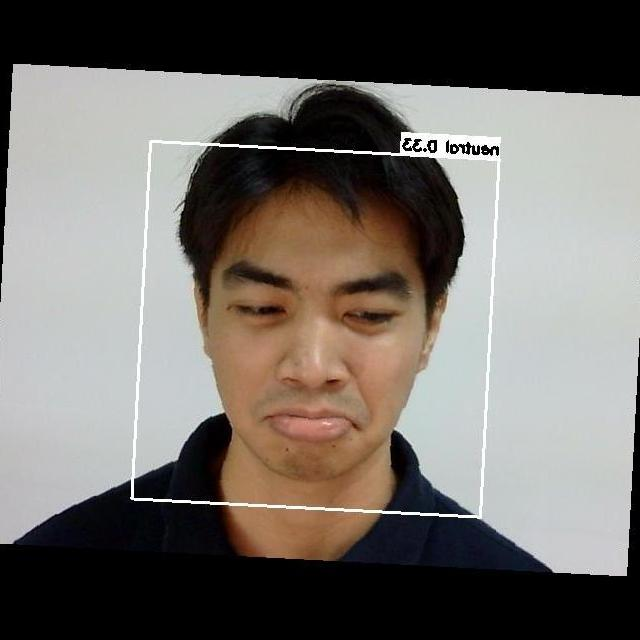Sad: (183, 221, 438, 487)
